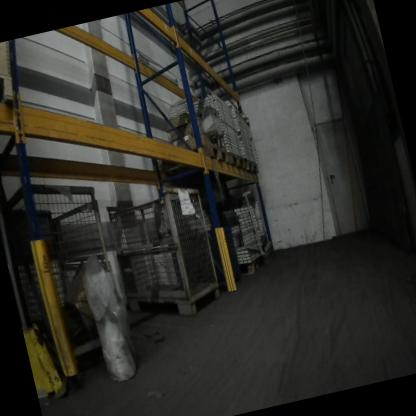pallet: (169, 135, 230, 181), (224, 148, 248, 174), (243, 156, 265, 179)
stillage: (0, 171, 140, 389), (102, 180, 230, 335)
